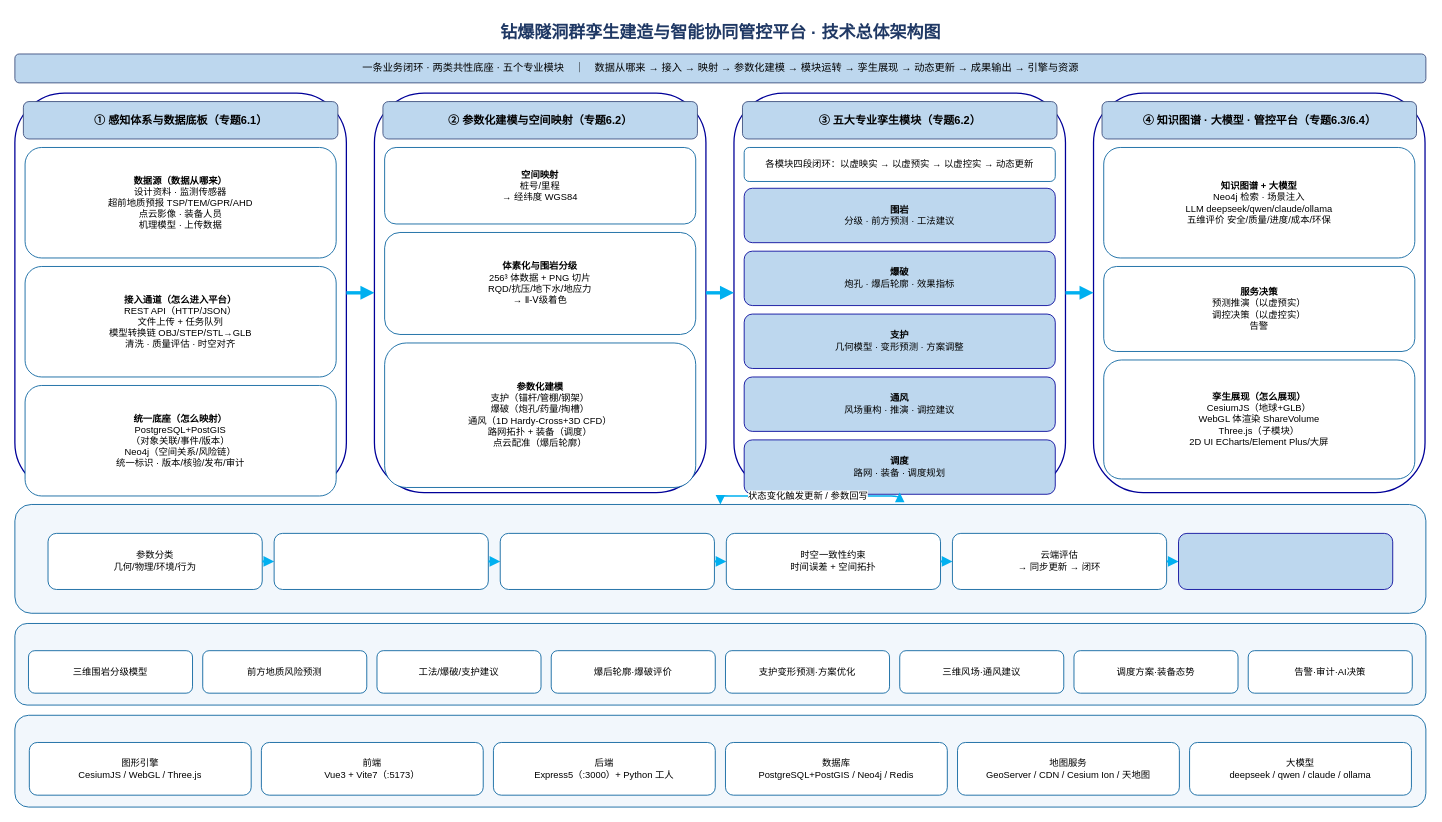
Some shapes in this 1442 by 822 pixel diagram are drawn without their labels. Each missing label, with the box of its shape:
动态更新机制（低延时）: (14, 504, 1426, 613)
变化检测 阈值判断: (273, 533, 488, 589)
图形引擎与服务器资源: (14, 714, 1426, 807)
平台输出成果（终端交付）: (14, 623, 1426, 705)
指标：映射精确度 ≥85% 更新时间 ≤1h: (1178, 533, 1393, 589)
无变化不更新 有变化局部更新 变化剧烈全局调: (499, 533, 714, 589)
